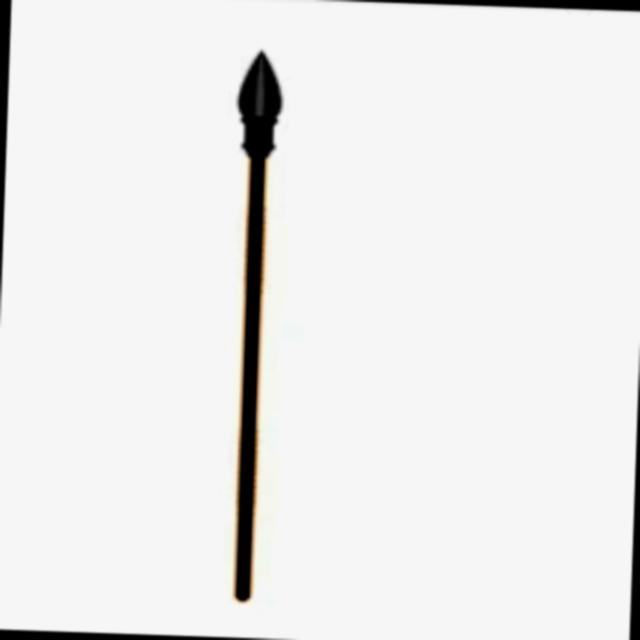spear: (204, 34, 310, 626)
